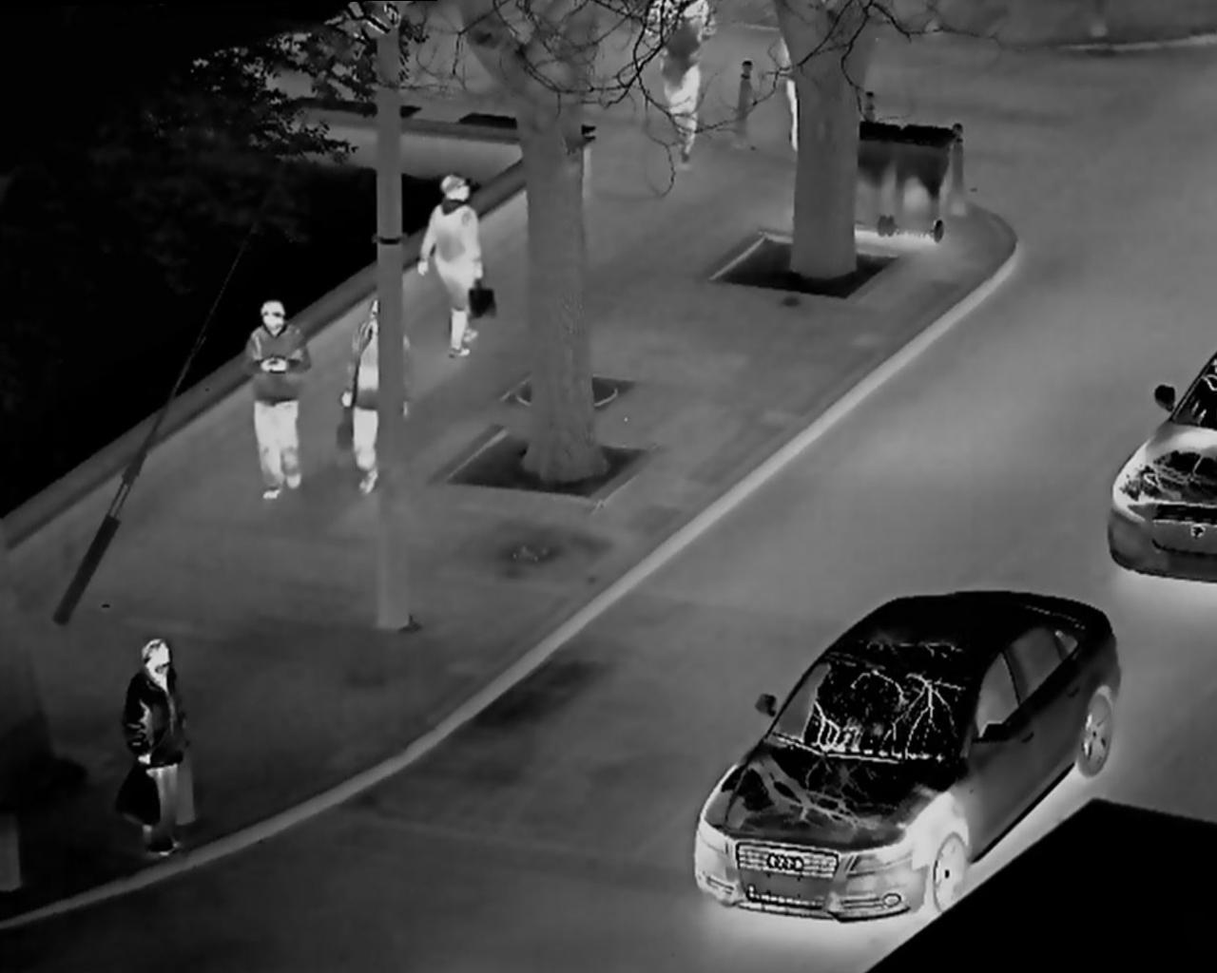person: (111, 625, 217, 871), (235, 285, 314, 516), (414, 166, 509, 356), (344, 296, 411, 499)
